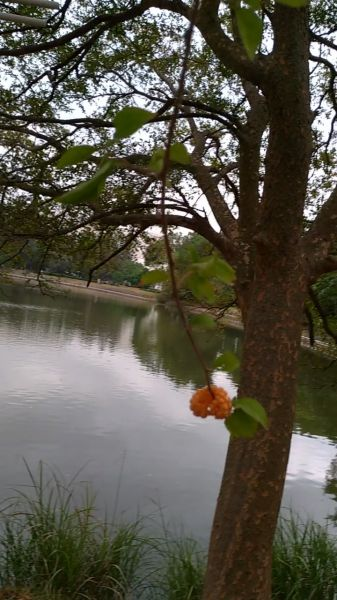eggs: (184, 382, 239, 425)
